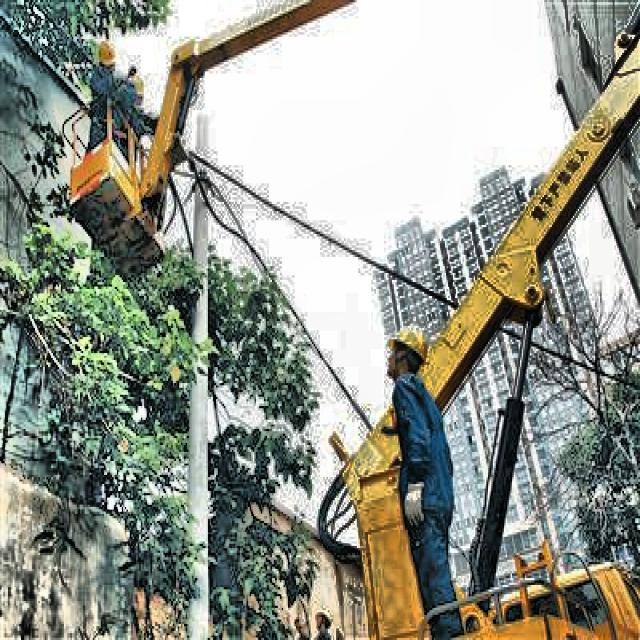helmet: (387, 326, 434, 383), (92, 34, 121, 78)
